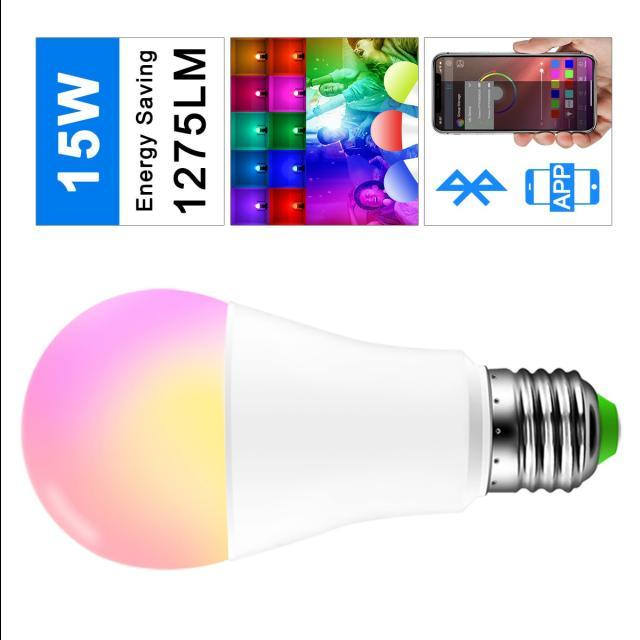light_bulb: (7, 279, 631, 579)
